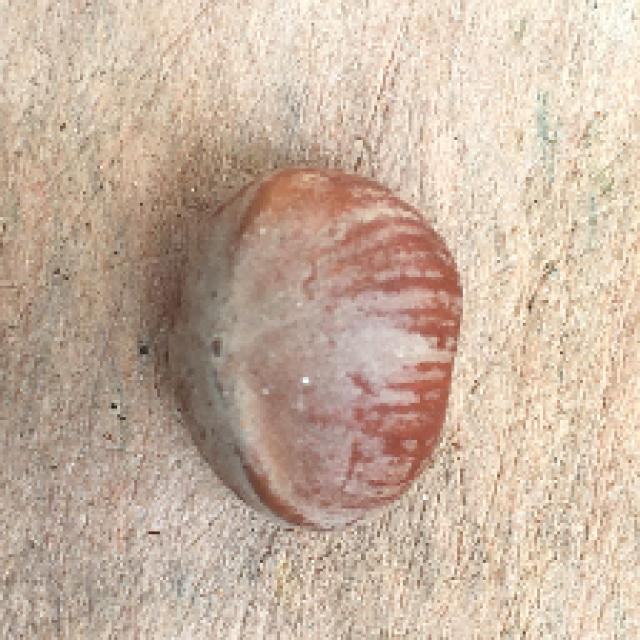qualityHazelnut: (163, 158, 475, 548)
